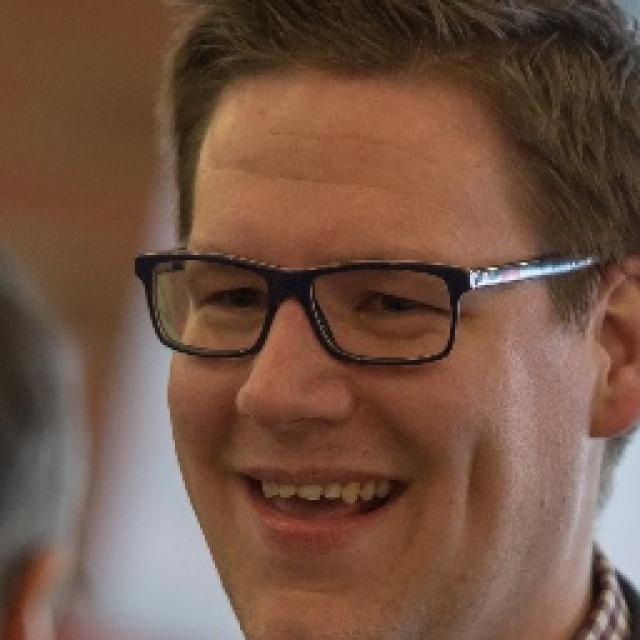earlobe: (587, 398, 636, 440)
eye: (360, 289, 448, 321), (200, 284, 272, 314)
nose: (238, 410, 362, 464)
wholeear: (585, 255, 640, 437)
